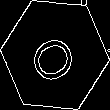O_NE: (25, 25, 85, 85)
